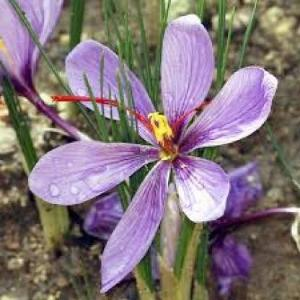Saffron: (35, 15, 272, 290), (0, 0, 66, 104)
